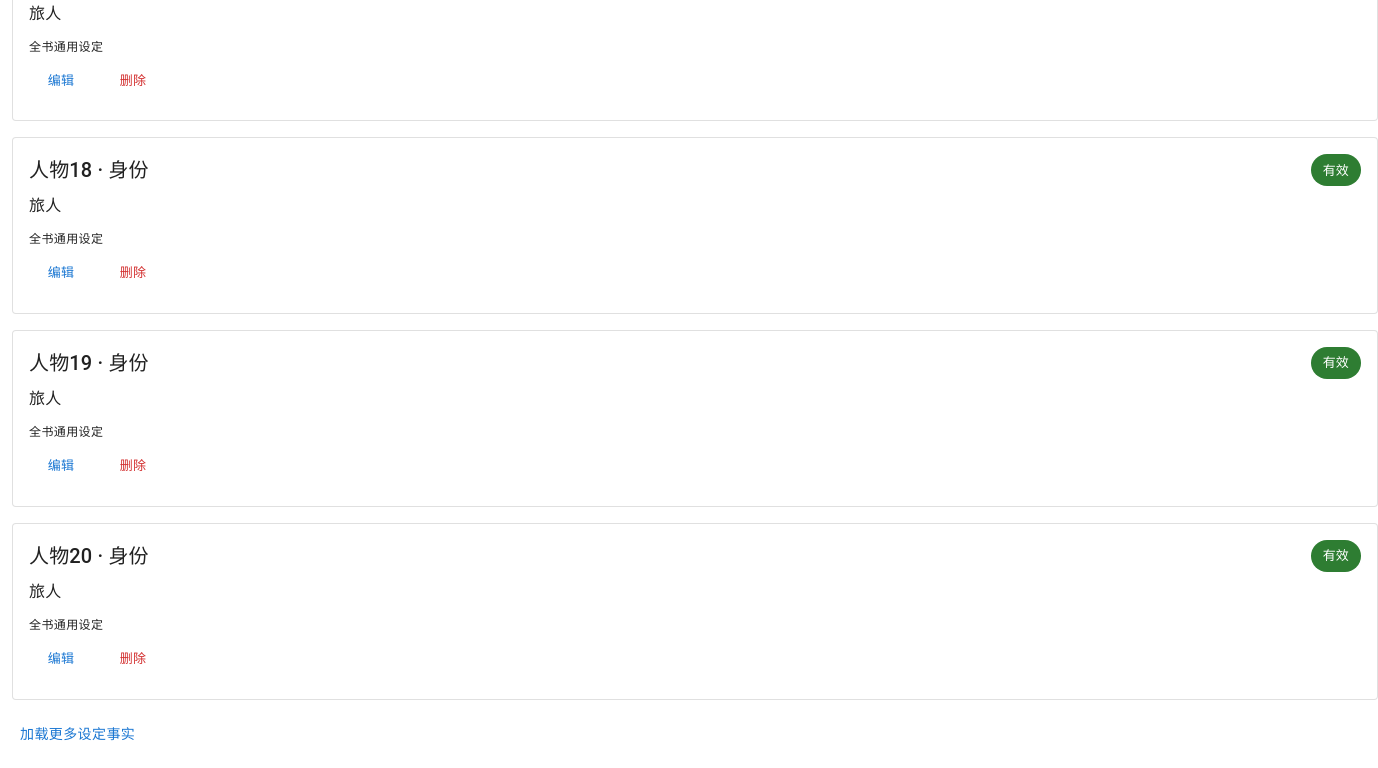
Test: 设定账本作者操作 › 超过一页的设定可以继续加载
(page scrolled)
Click the button "加载更多设定事实": point(78, 734) [12, 716, 143, 752]
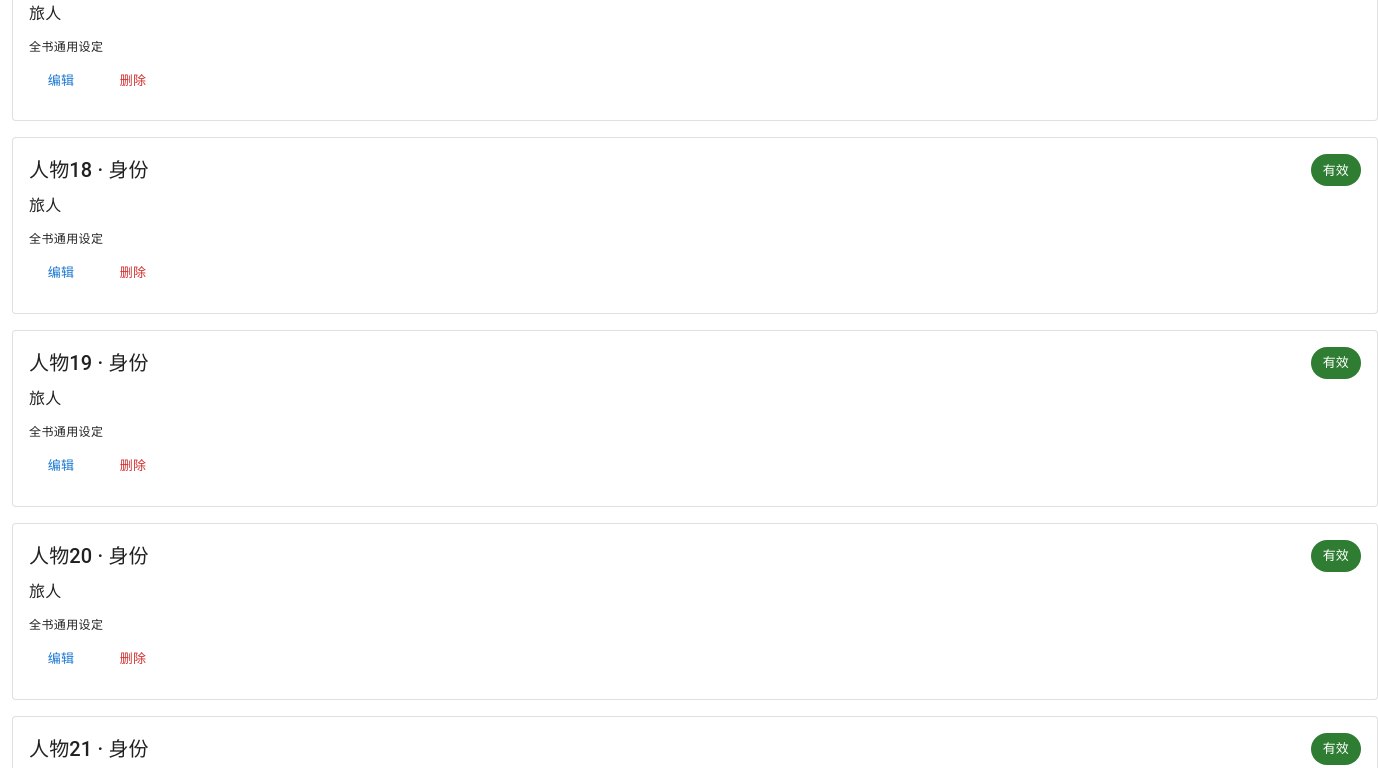
Check: the heading "人物21 · 身份" is shown, box [29, 732, 149, 764]
Check: the button "加载更多设定事实" is gone
